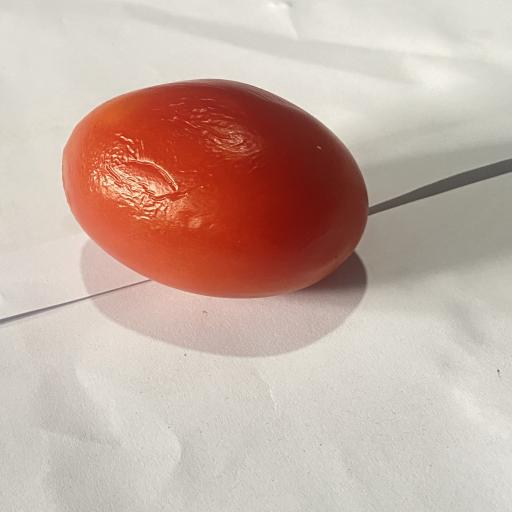spoiled: (62, 79, 368, 298)
